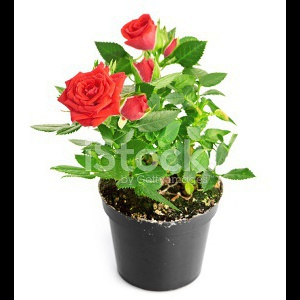flowerpot: (94, 152, 226, 293)
